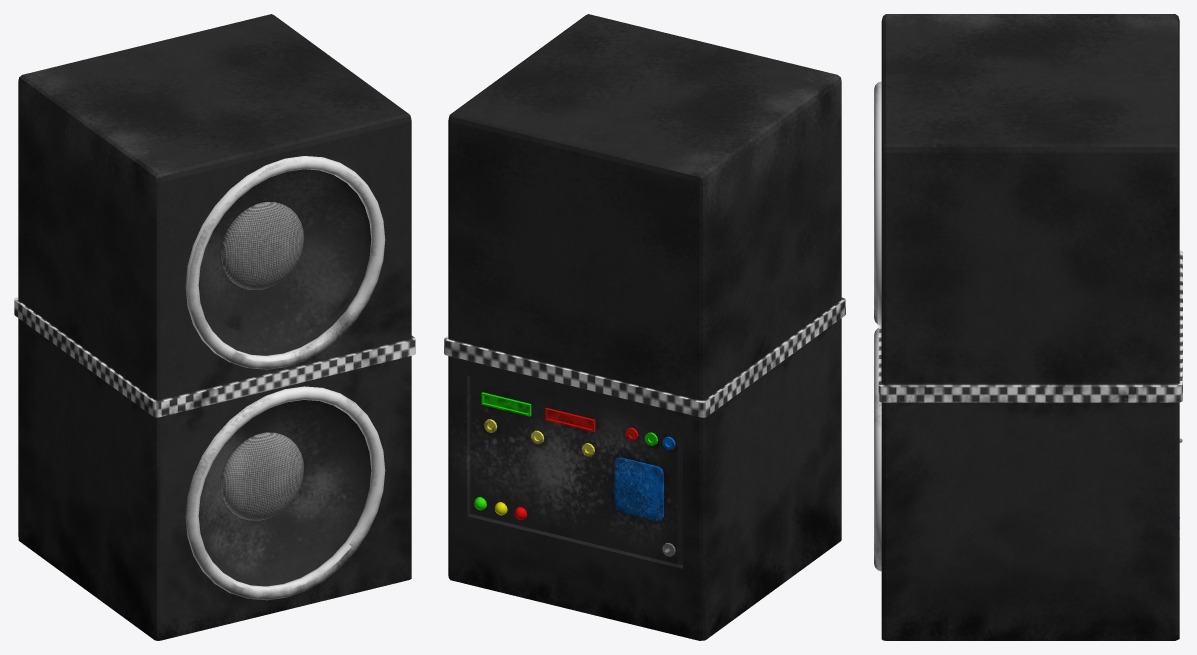
The model's file is FNaF Speaker.fbx.
3 views of the same model, side by side, from view 1: azimuth 30°, elevation 25°; view 2: azimuth 150°, elevation 25°; view 3: azimuth 270°, elevation 25° (orthographic). The views are drawn at different scales.
Visible parts, largest first — view 1: Speaker; view 2: Speaker; view 3: Speaker.
Boxes of the visible parts, x1,y1,x2,y2 form: Speaker: [14, 14, 415, 640]; Speaker: [444, 14, 845, 640]; Speaker: [874, 14, 1182, 640].
Bounding box in the file's own units: 216 × 367 × 207.
